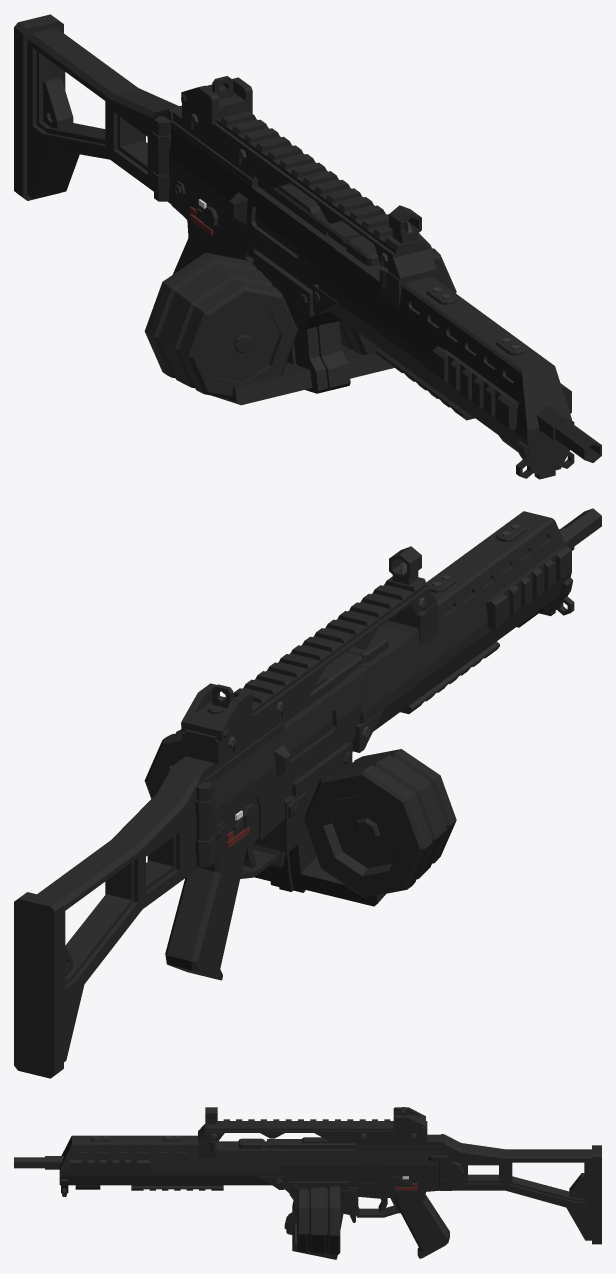
File: LMG_C.fbx
3 views of the same model, one above another, from view 1: azimuth 30°, elevation 25°; view 2: azimuth 150°, elevation 25°; view 3: azimuth 270°, elevation 25° (orthographic). The views are drawn at different scales.
Parts seen in each view (by area): view 1: LMG_C_Mag, LMG_C_BarrelGuard, LMG_C_Stock, LMG_C_Receiver_Up, LMG_C_Rail, LMG_C_Sight, LMG_C_BarrelGuard_Rail, LMG_C_Receiver_Down, LMG_C_Bolt, LMG_C_Barrel, AR_D_Bolt_Part.001; view 2: LMG_C_Stock, LMG_C_Mag, LMG_C_BarrelGuard, LMG_C_Receiver_Up, LMG_C_Rail, LMG_C_Receiver_Down, LMG_C_Sight, LMG_C_BarrelGuard_Rail, LMG_C_Bolt, LMG_C_Barrel; view 3: LMG_C_BarrelGuard, LMG_C_Receiver_Up, LMG_C_Stock, LMG_C_Rail, LMG_C_Mag, LMG_C_Receiver_Down, LMG_C_BarrelGuard_Rail, LMG_C_Sight, LMG_C_Bolt, LMG_C_Barrel, AR_D_Bolt_Part.001.
Part boxes in pixels (bbox=[...]): LMG_C_Mag: bbox=[144, 233, 456, 405]; LMG_C_BarrelGuard: bbox=[313, 246, 574, 479]; LMG_C_Stock: bbox=[14, 14, 181, 203]; LMG_C_Receiver_Up: bbox=[169, 110, 343, 329]; LMG_C_Rail: bbox=[182, 103, 436, 280]; LMG_C_Sight: bbox=[181, 76, 421, 243]; LMG_C_BarrelGuard_Rail: bbox=[432, 346, 571, 429]; LMG_C_Receiver_Down: bbox=[171, 195, 250, 274]; LMG_C_Bolt: bbox=[258, 178, 362, 242]; LMG_C_Barrel: bbox=[536, 405, 601, 462]; AR_D_Bolt_Part.001: bbox=[328, 233, 380, 266]; LMG_C_Stock: bbox=[14, 765, 215, 1078]; LMG_C_Mag: bbox=[144, 729, 456, 906]; LMG_C_BarrelGuard: bbox=[352, 511, 574, 752]; LMG_C_Receiver_Up: bbox=[173, 666, 368, 867]; LMG_C_Rail: bbox=[182, 576, 436, 764]; LMG_C_Receiver_Down: bbox=[165, 799, 280, 980]; LMG_C_Sight: bbox=[181, 546, 421, 741]; LMG_C_BarrelGuard_Rail: bbox=[486, 546, 571, 629]; LMG_C_Bolt: bbox=[282, 652, 362, 723]; LMG_C_Barrel: bbox=[559, 508, 601, 550]; LMG_C_BarrelGuard: bbox=[59, 1135, 284, 1196]; LMG_C_Receiver_Up: bbox=[267, 1134, 464, 1222]; LMG_C_Stock: bbox=[441, 1134, 601, 1244]; LMG_C_Rail: bbox=[198, 1119, 427, 1142]; LMG_C_Mag: bbox=[284, 1180, 343, 1259]; LMG_C_Receiver_Down: bbox=[356, 1175, 449, 1258]; LMG_C_BarrelGuard_Rail: bbox=[69, 1160, 149, 1174]; LMG_C_Sight: bbox=[205, 1107, 425, 1131]; LMG_C_Bolt: bbox=[267, 1137, 355, 1148]; LMG_C_Barrel: bbox=[14, 1156, 63, 1169]; AR_D_Bolt_Part.001: bbox=[238, 1138, 284, 1148].
Size of the model in its own units: 0.345 by 0.3312 by 1.19.
